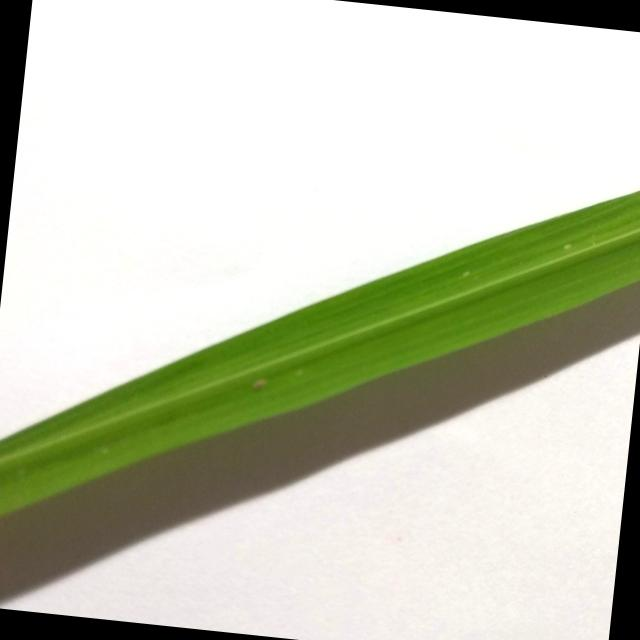Rice_Healthy: (0, 190, 640, 516)
